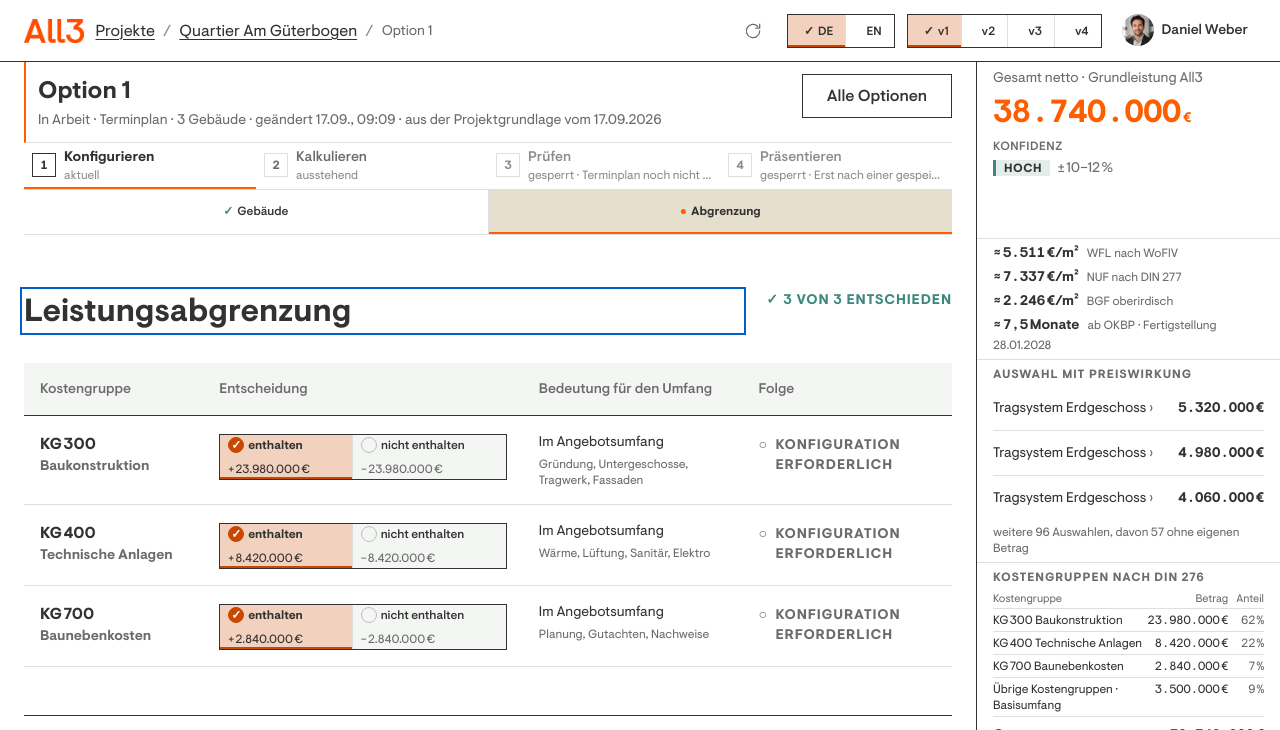
Test case: gating (workflow state machine invariants 4 and 5) › Schedule becomes available only when every included KG is complete
Check: the heading "Leistungsabgrenzung" is shown, box x1=24 y1=291 x2=742 y2=331
Click the button "2 Kalkulieren ausstehend": (372, 166) x1=256 y1=143 x2=488 y2=189
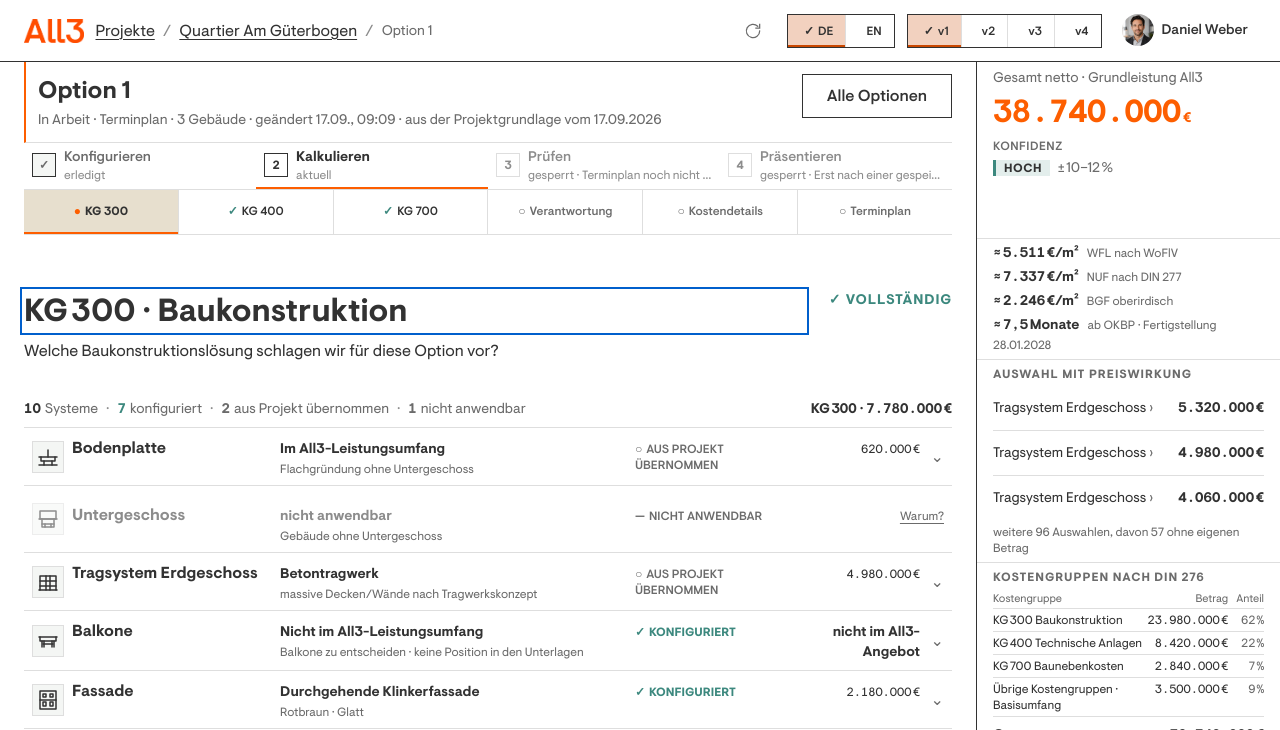
Check: the button "○ Terminplan" is shown, box x1=798 y1=190 x2=952 y2=234
